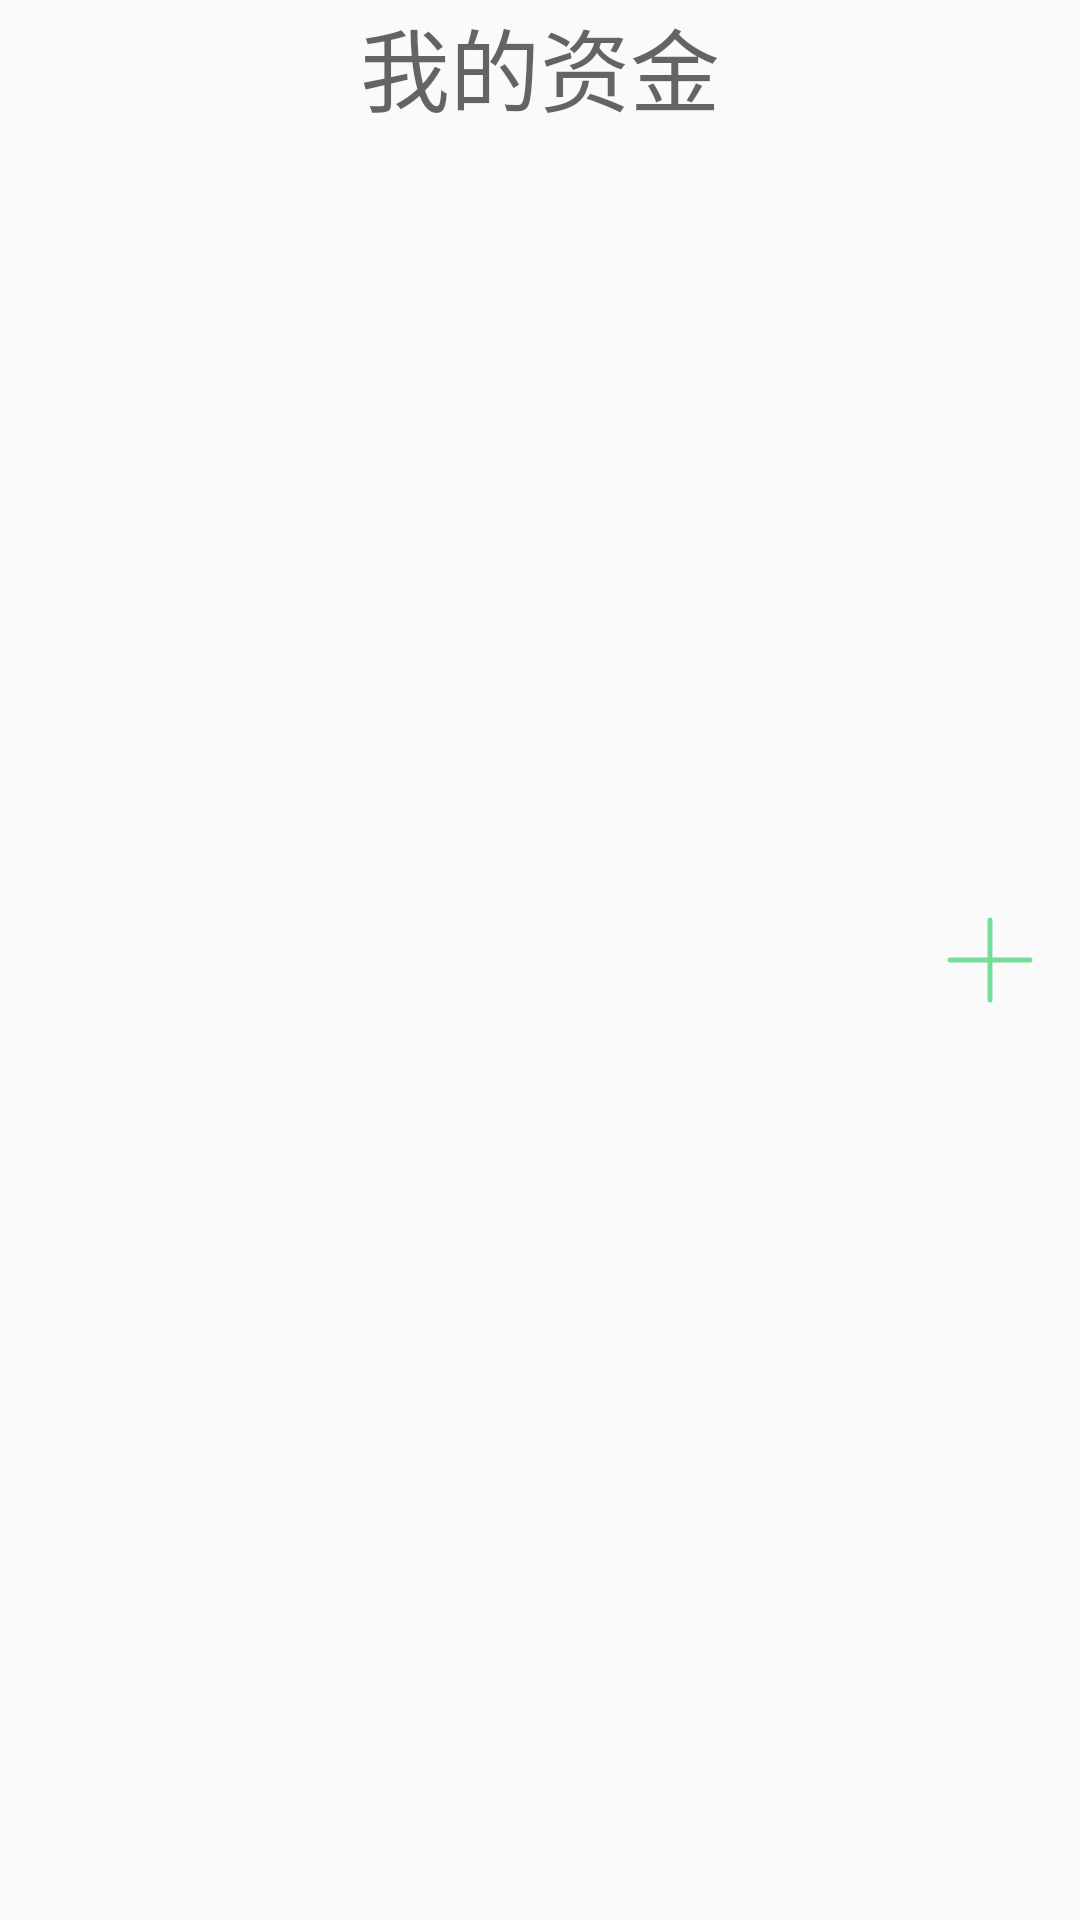

Where to tap for icons on this 1080px×1920px app screen, as (x,y):
add: (990,960)
